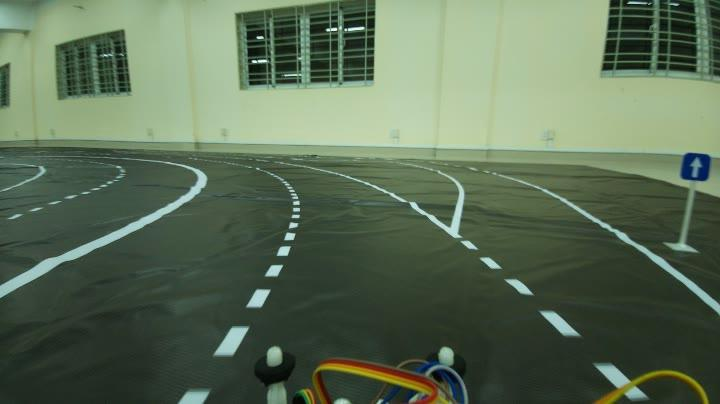onewayroad: (678, 143, 714, 187)
